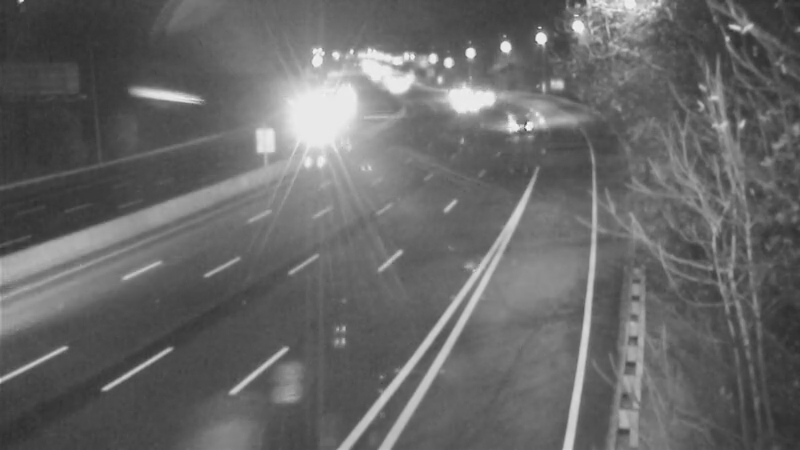vehicle: (425, 72, 475, 122), (461, 72, 511, 122), (438, 79, 488, 129), (498, 96, 548, 146), (283, 98, 333, 148)
